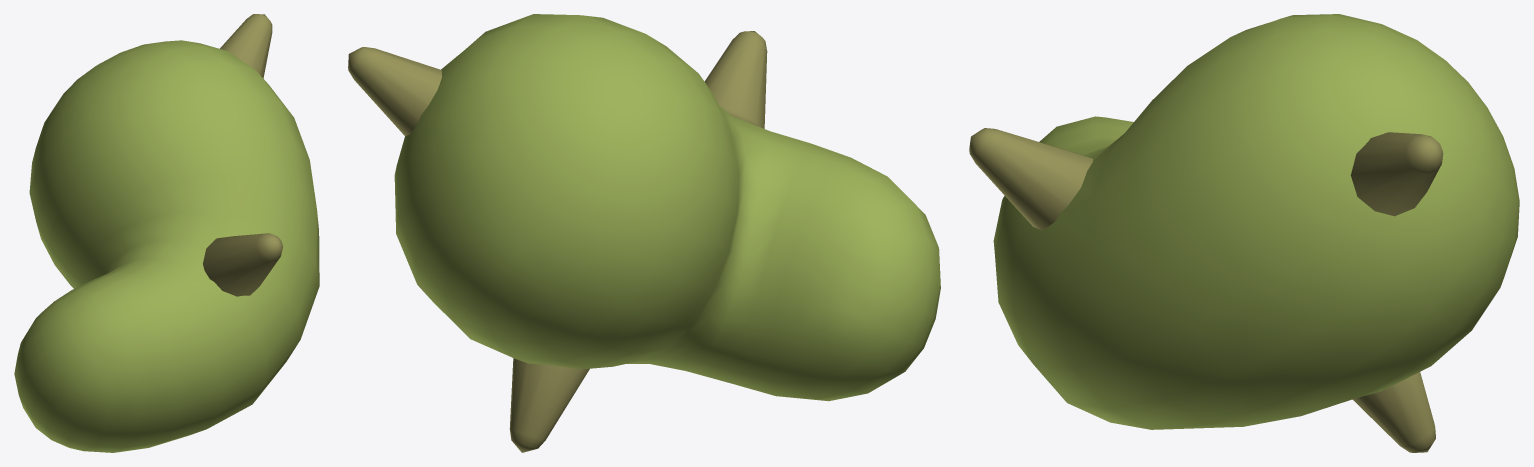
File: cactus_arm.fbx
The picture shows the model from 3 angles, left to right: view 1: azimuth 30°, elevation 25°; view 2: azimuth 150°, elevation 25°; view 3: azimuth 270°, elevation 25°; orthographic projection. The views are drawn at different scales.
Visible parts, largest first — view 1: cactus_arm; view 2: cactus_arm; view 3: cactus_arm.
Boxes of the visible parts, x1,y1,x2,y2 form: cactus_arm: (14,14,319,452); cactus_arm: (348,14,940,452); cactus_arm: (969,14,1519,452).
Bounding box in the file's own units: 62.49 × 52.6 × 61.51.
